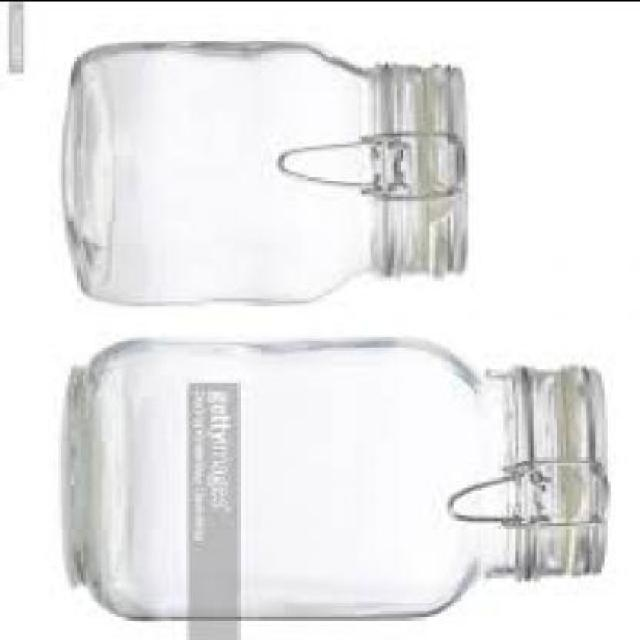GLASS: (72, 336, 610, 618), (66, 38, 468, 300)
